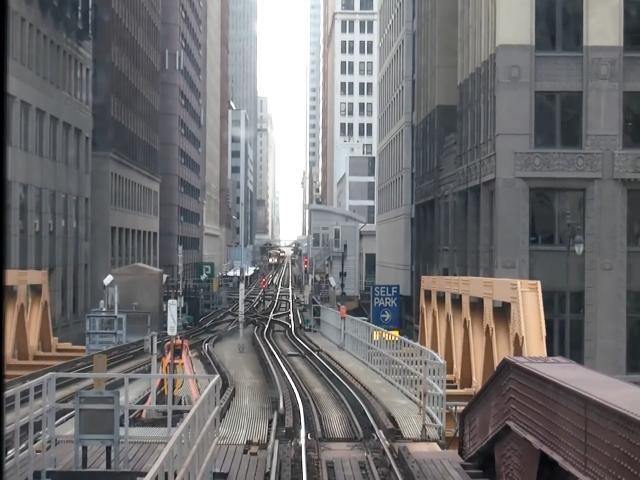signal light: (262, 276, 268, 308), (305, 259, 309, 279)
